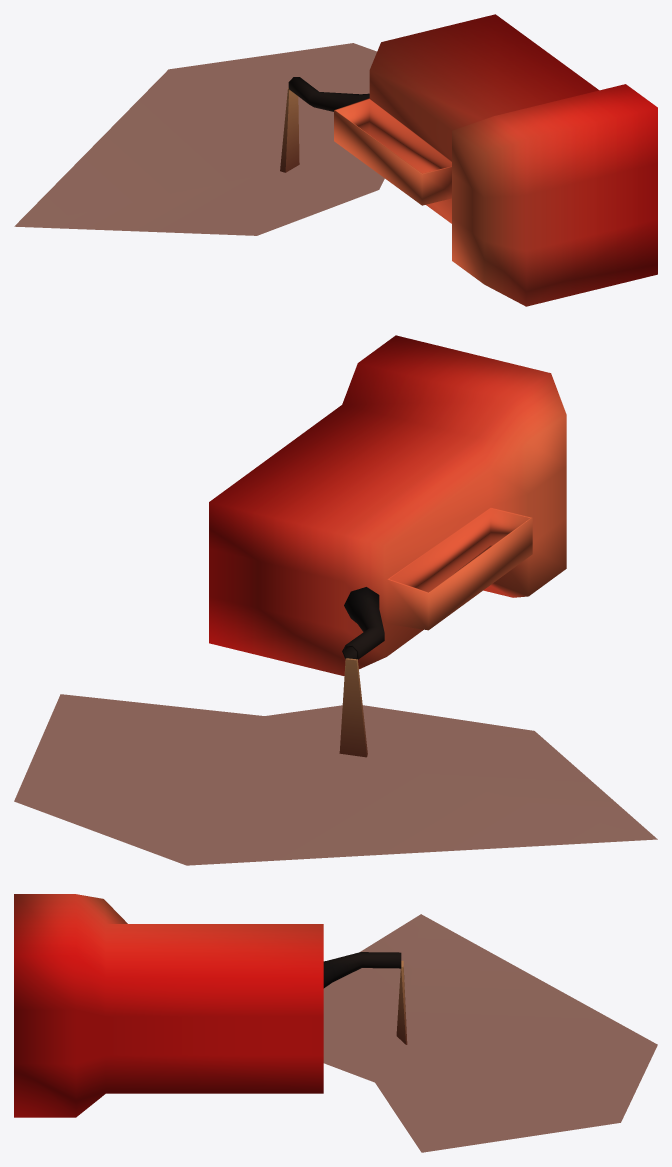
The model's file is GasCan_Spilling.fbx.
3 views of the same model, one above another, from view 1: azimuth 30°, elevation 25°; view 2: azimuth 150°, elevation 25°; view 3: azimuth 270°, elevation 25° (orthographic). The views are drawn at different scales.
Parts seen in each view (by area): view 1: LowPolyHumanBase.012; view 2: LowPolyHumanBase.012; view 3: LowPolyHumanBase.012.
Boxes of the visible parts, <box> form: LowPolyHumanBase.012: <box>14,14,657,306</box>; LowPolyHumanBase.012: <box>14,335,657,865</box>; LowPolyHumanBase.012: <box>14,894,657,1152</box>.
Bounding box in the file's own units: 152 × 48.47 × 174.
